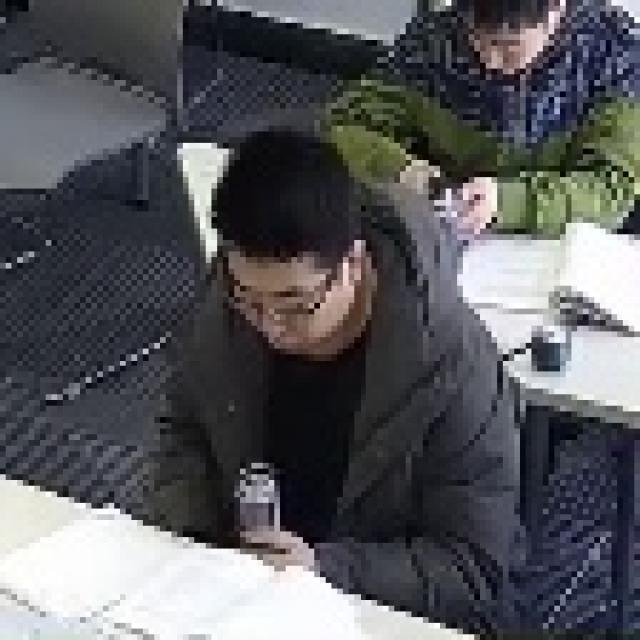drink: (137, 131, 480, 640)
phone: (285, 0, 640, 223)
